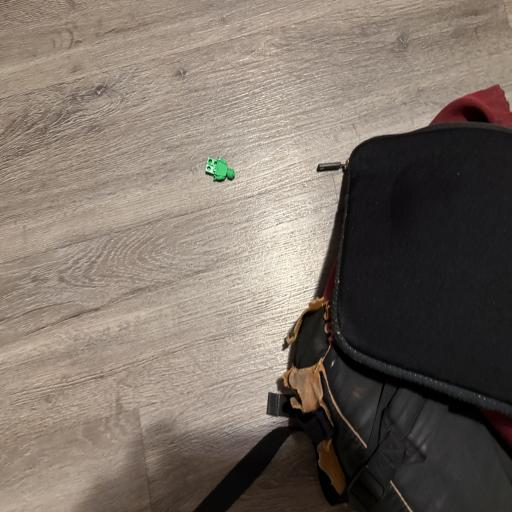Minifig: (206, 157, 235, 181)
